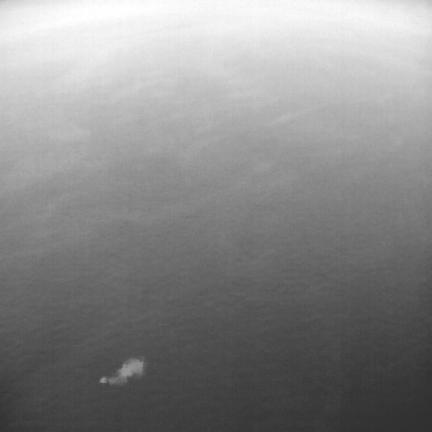flukeprints: (99, 359, 145, 384)
